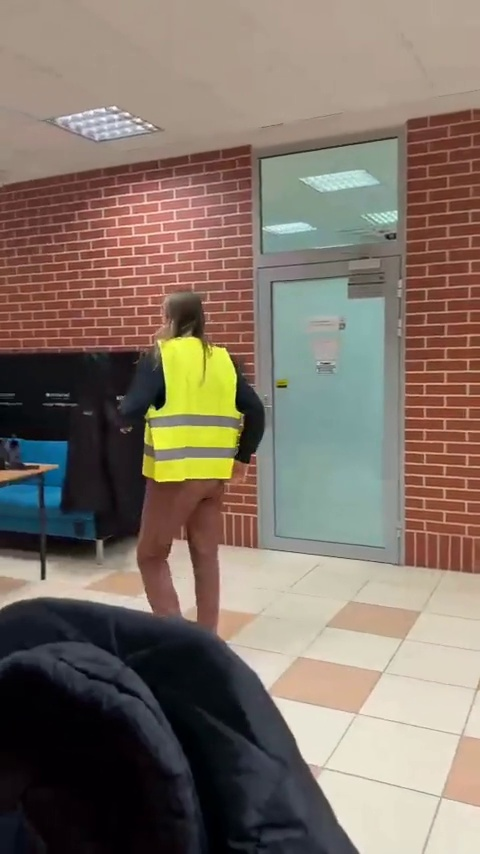vest: (122, 283, 264, 640)
